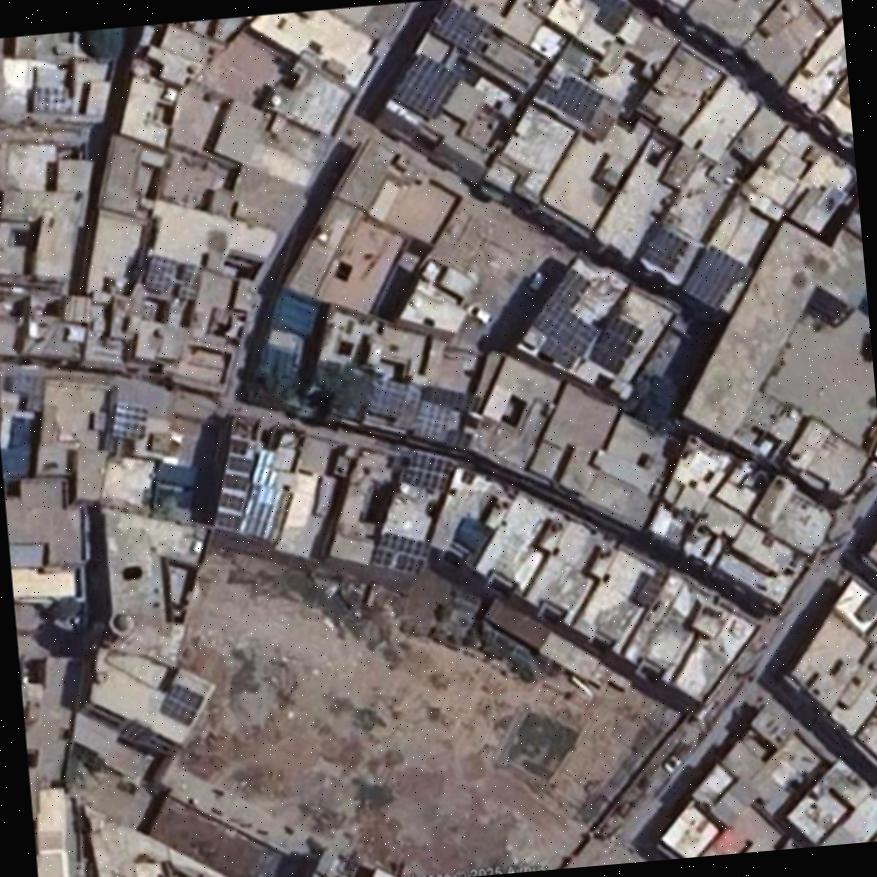Solarpanel: (518, 267, 616, 368), (392, 54, 459, 117), (683, 244, 741, 307), (430, 0, 489, 52), (588, 315, 640, 371), (545, 75, 601, 121), (370, 529, 429, 570), (400, 452, 455, 490), (568, 0, 632, 32), (639, 227, 689, 267), (160, 681, 202, 725), (111, 404, 144, 440), (222, 471, 248, 490), (214, 512, 239, 529), (226, 455, 250, 471), (218, 494, 240, 507)
